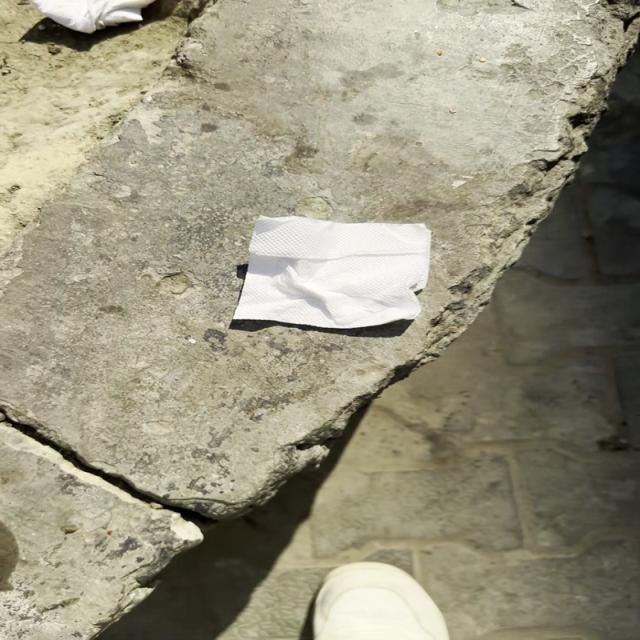tissue: (222, 213, 438, 330)
